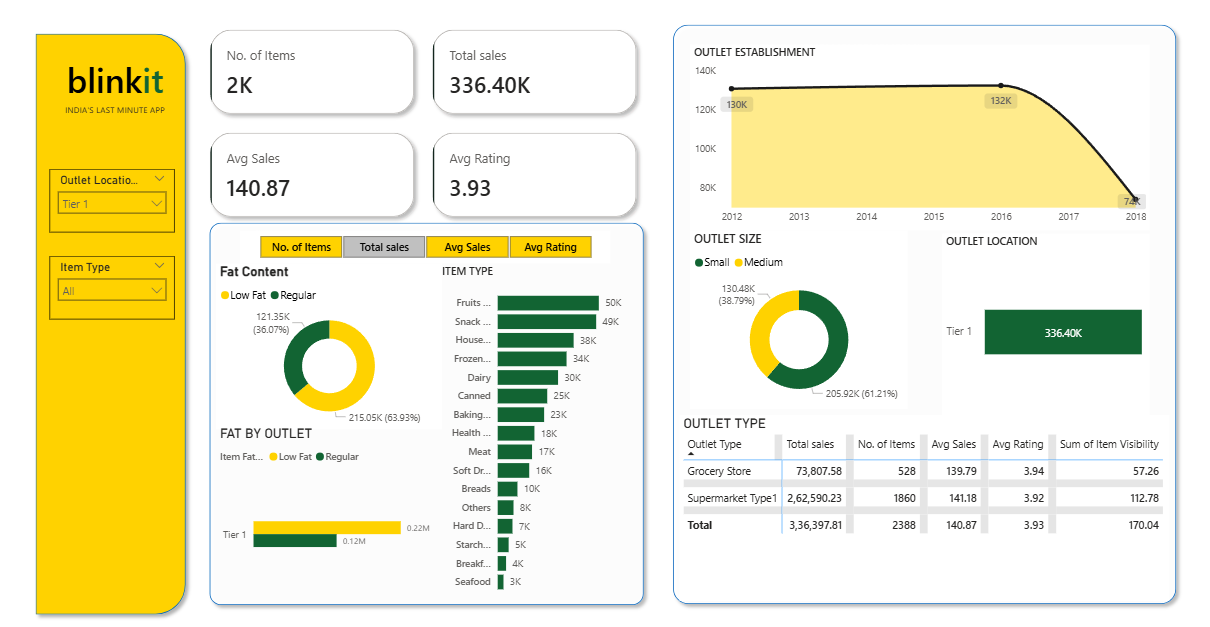

The dashboard page shown, as its layout file describes it:
{"tool":"powerbi","page":{"name":"Page 1","canvas":[1600,800],"ordinal":0},"visuals":[{"type":"shape","box":[36.4,36.4,207.3,750.9],"z":0},{"type":"textbox","box":[16.4,67.3,256.4,109.1],"z":1000},{"type":"cardVisual","fields":{"Data":["BlinkIT Grocery Data.No. of Items","BlinkIT Grocery Data.Total sales","BlinkIT Grocery Data.Avg Sales","BlinkIT Grocery Data.Avg Rating"]},"box":[247.3,22.9,572.5,270.2],"z":2000},{"type":"shape","box":[254.8,274.7,565.7,500.6],"z":3000},{"type":"donutChart","title":"Fat Content","fields":{"Y":["BlinkIT Grocery Data.Total sales"],"Category":["BlinkIT Grocery Data.Item Fat Content"]},"box":[272.7,334.5,285.5,209.1],"z":4000},{"type":"slicer","fields":{"Values":["Metrics.Metrics"]},"box":[302.3,293.1,467.2,41.2],"z":5000},{"type":"clusteredBarChart","title":" FAT BY OUTLET","fields":{"Y":["BlinkIT Grocery Data.Total sales"],"Category":["BlinkIT Grocery Data.Outlet Location Type"],"Series":["BlinkIT Grocery Data.Item Fat Content"]},"box":[272.7,540,280,220],"z":6000},{"type":"barChart","title":"ITEM TYPE","fields":{"Y":["BlinkIT Grocery Data.Total sales"],"Category":["BlinkIT Grocery Data.Item Type"]},"box":[552.7,334.5,247.3,425.5],"z":7000},{"type":"shape","box":[840,25.5,652.7,749.1],"z":8000},{"type":"lineChart","title":"OUTLET ESTABLISHMENT","fields":{"Y":["BlinkIT Grocery Data.Total sales"],"Category":["BlinkIT Grocery Data.Outlet Establishment Year"]},"box":[870.9,58.2,580,234.5],"z":9000},{"type":"donutChart","title":"OUTLET SIZE","fields":{"Y":["BlinkIT Grocery Data.Total sales"],"Category":["BlinkIT Grocery Data.Outlet Size"]},"box":[870.9,292.7,274.5,225.5],"z":10000},{"type":"funnel","title":"OUTLET LOCATION","fields":{"Category":["BlinkIT Grocery Data.Outlet Location Type"],"Y":["Sum(BlinkIT Grocery Data.Sales)"]},"box":[1189.1,296.4,261.8,229.1],"z":11000},{"type":"pivotTable","title":"OUTLET TYPE","fields":{"Rows":["BlinkIT Grocery Data.Outlet Type"],"Values":["BlinkIT Grocery Data.Total sales","BlinkIT Grocery Data.No. of Items","BlinkIT Grocery Data.Avg Sales","BlinkIT Grocery Data.Avg Rating","Sum(BlinkIT Grocery Data.Item Visibility)"]},"box":[858.2,525.5,618.2,234.5],"z":12000},{"type":"slicer","fields":{"Values":["BlinkIT Grocery Data.Outlet Location Type"]},"box":[61.8,216.4,158.2,80],"z":13000},{"type":"slicer","fields":{"Values":["BlinkIT Grocery Data.Item Type"]},"box":[61.8,325.5,158.2,80],"z":13001}]}

Visuals, with their boxes on the page's 1600x800 design canvas (x1, y1, x2, y2). These are canvas units, not pixel positions in the 1210x627 screenshot, which may show the page scaled, cropped or inside an application window:
shape: (36,36,244,787)
textbox: (16,67,273,176)
cardVisual - BlinkIT Grocery Data.No. of Items x BlinkIT Grocery Data.Total sales: (247,23,820,293)
shape: (255,275,820,775)
"Fat Content" donutChart: (273,334,558,544)
slicer - Metrics.Metrics: (302,293,770,334)
" FAT BY OUTLET" clusteredBarChart: (273,540,553,760)
"ITEM TYPE" barChart: (553,334,800,760)
shape: (840,26,1493,775)
"OUTLET ESTABLISHMENT" lineChart: (871,58,1451,293)
"OUTLET SIZE" donutChart: (871,293,1145,518)
"OUTLET LOCATION" funnel: (1189,296,1451,526)
"OUTLET TYPE" pivotTable: (858,526,1476,760)
slicer - BlinkIT Grocery Data.Outlet Location Type: (62,216,220,296)
slicer - BlinkIT Grocery Data.Item Type: (62,326,220,406)
